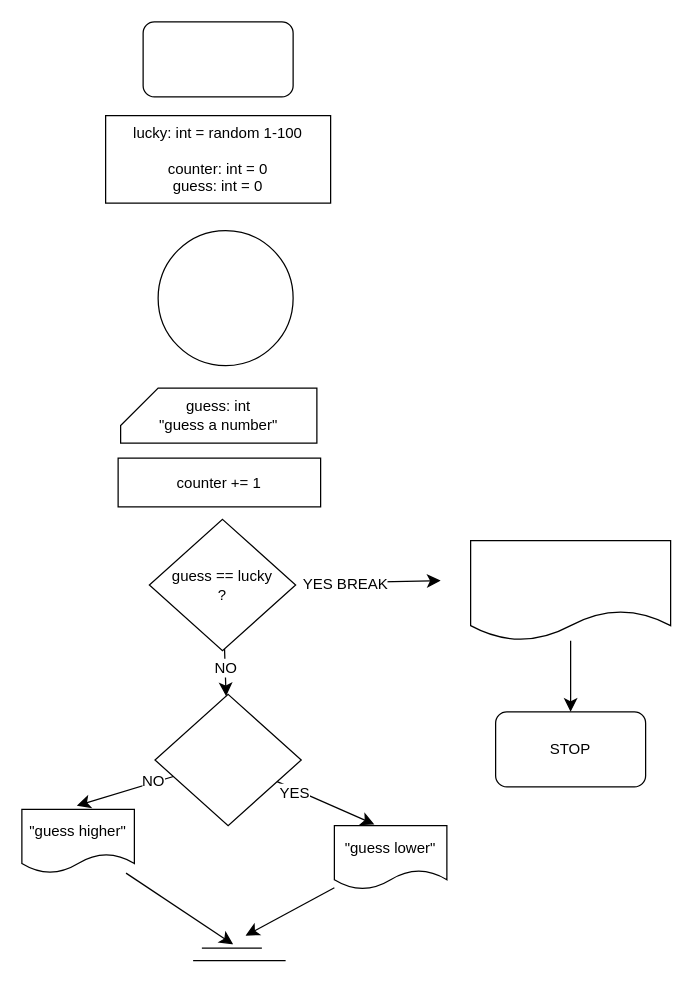
This 693x984 diagram has some shape labels left out. The shapes that lost their labels are listed below. From the top down, each one's centre as x and y in pixels, then its label:
(217,59): START
(225,297): while True
(570,590): "Correct" how many guess?{counter}
(227,759): guess > lucky ?
